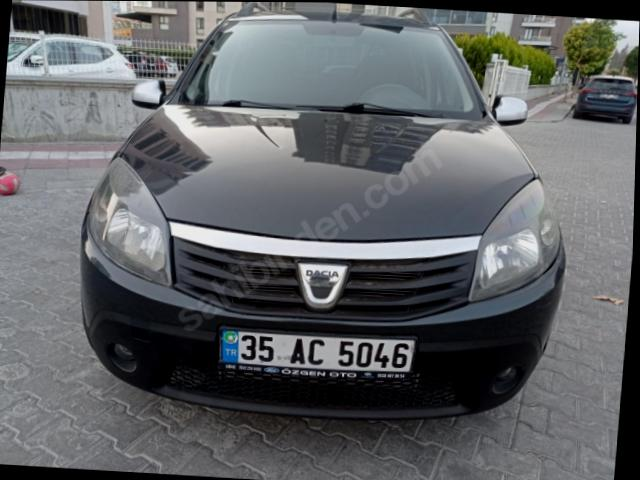plaka: (220, 329, 416, 378)
